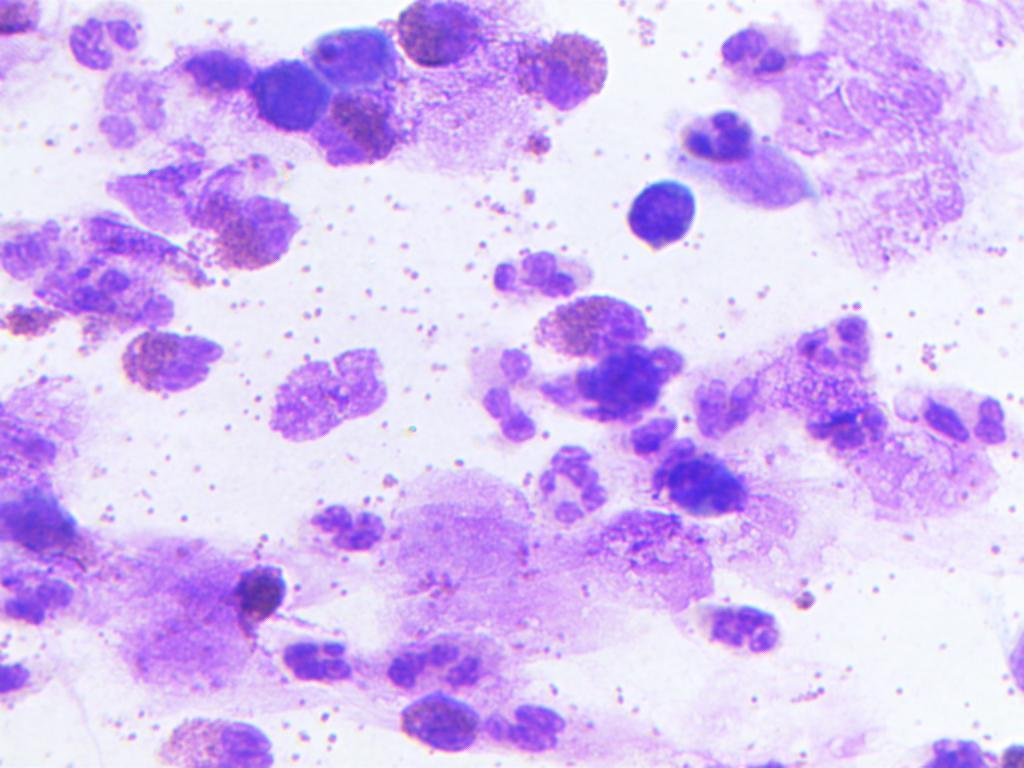eosinophil: (263, 329, 390, 455), (179, 166, 308, 289), (490, 25, 619, 124), (103, 329, 251, 413), (300, 85, 411, 180), (392, 1, 498, 87), (146, 705, 276, 768), (537, 289, 658, 355)
lymphocyte: (564, 341, 683, 428), (662, 441, 761, 535), (617, 172, 713, 251), (247, 54, 333, 138), (387, 691, 483, 759), (301, 24, 399, 89)
neutrophil: (0, 357, 90, 489), (462, 338, 548, 453), (676, 584, 785, 660), (529, 436, 608, 534), (395, 636, 514, 700), (785, 392, 894, 458), (917, 376, 1008, 454), (483, 696, 590, 760), (0, 566, 91, 640), (787, 302, 879, 374), (64, 10, 153, 83), (92, 79, 179, 152), (709, 20, 800, 88), (299, 498, 394, 562), (673, 100, 762, 166), (481, 251, 597, 301), (49, 256, 131, 318), (271, 636, 358, 682), (0, 650, 60, 711)
